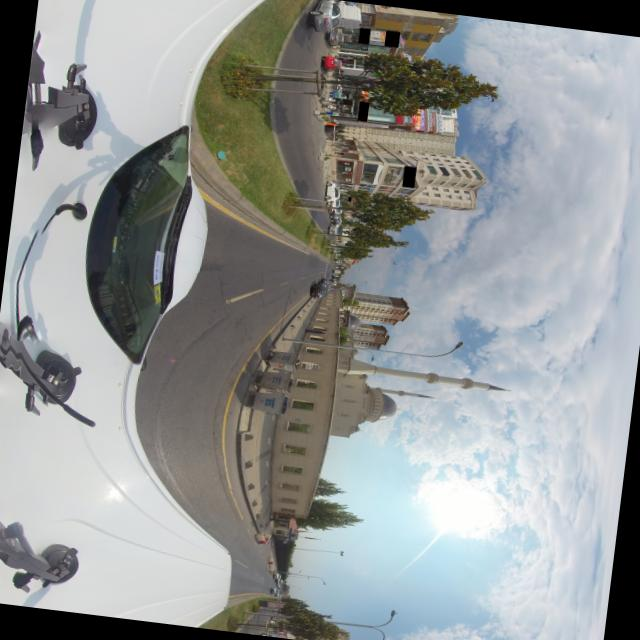SignStore: (401, 166, 415, 187), (385, 30, 397, 47), (357, 101, 367, 121), (358, 27, 367, 44), (368, 185, 374, 190), (347, 197, 350, 201)
